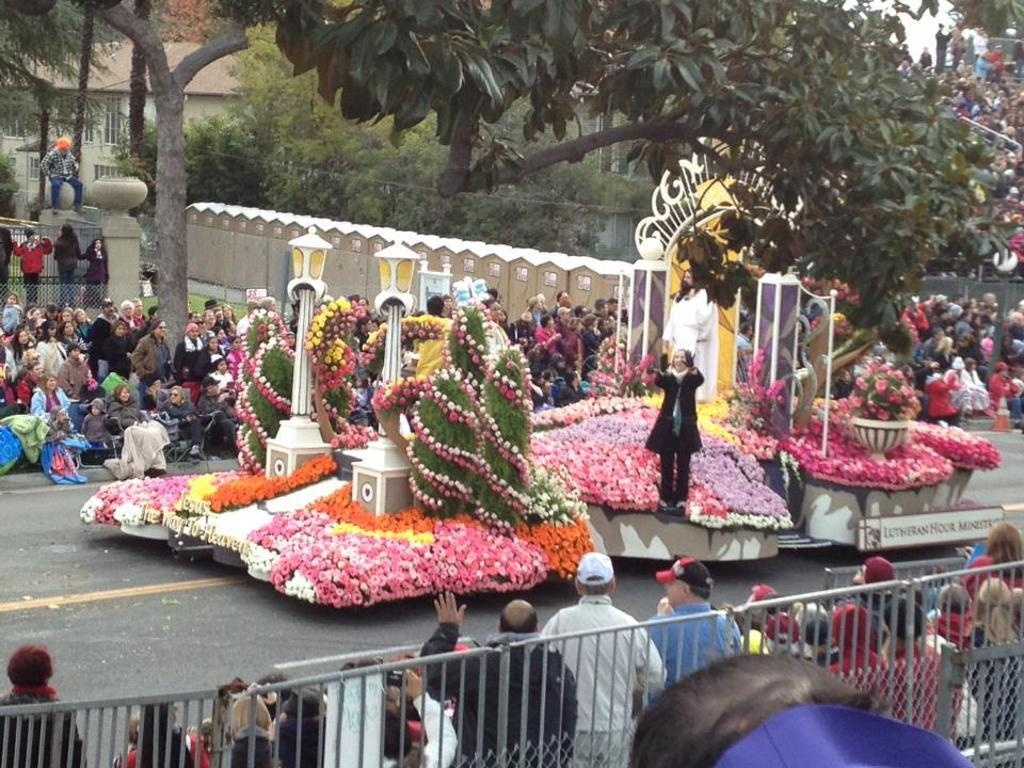human_face: (662, 575, 680, 605), (852, 560, 872, 584), (672, 351, 686, 371), (154, 320, 166, 336), (682, 272, 692, 290), (168, 389, 180, 403), (102, 302, 114, 316), (490, 302, 500, 318), (118, 386, 128, 400), (46, 377, 56, 389), (90, 402, 100, 414), (32, 364, 42, 376), (70, 346, 80, 358), (216, 360, 226, 372), (284, 334, 294, 346), (74, 312, 86, 322), (210, 381, 218, 395), (115, 324, 125, 334), (188, 328, 198, 338), (63, 322, 73, 332), (46, 324, 56, 334), (62, 312, 72, 322), (59, 146, 69, 156), (358, 299, 368, 309), (1011, 364, 1021, 374), (56, 410, 64, 422), (232, 338, 240, 350), (20, 330, 28, 342), (123, 304, 131, 316), (134, 303, 142, 315), (269, 299, 277, 311), (0, 333, 8, 345), (600, 318, 608, 330), (152, 380, 160, 390), (208, 338, 216, 348), (7, 294, 15, 304), (46, 310, 56, 318), (206, 313, 214, 323), (192, 312, 200, 322), (222, 308, 230, 318), (215, 312, 223, 322), (573, 372, 581, 382), (533, 298, 541, 308), (600, 302, 608, 312), (589, 316, 597, 326), (558, 357, 566, 367), (498, 311, 506, 321), (905, 370, 913, 380), (874, 356, 882, 366), (33, 310, 41, 318), (153, 310, 161, 318), (217, 330, 225, 338), (561, 310, 569, 318), (544, 316, 552, 324), (744, 326, 752, 334), (608, 303, 616, 311), (982, 296, 990, 304), (960, 338, 968, 346), (964, 314, 972, 322), (353, 377, 361, 385), (228, 320, 234, 330), (36, 328, 42, 338), (364, 321, 370, 331), (442, 298, 452, 304), (536, 374, 542, 384), (22, 327, 28, 335), (350, 300, 356, 308), (371, 323, 377, 331), (561, 292, 567, 300), (936, 331, 942, 339), (957, 296, 963, 304), (932, 365, 938, 373), (1004, 337, 1010, 345), (974, 316, 980, 324), (999, 367, 1005, 375), (28, 234, 34, 240), (968, 300, 974, 306), (970, 362, 976, 368), (940, 312, 946, 318), (96, 240, 100, 248)
